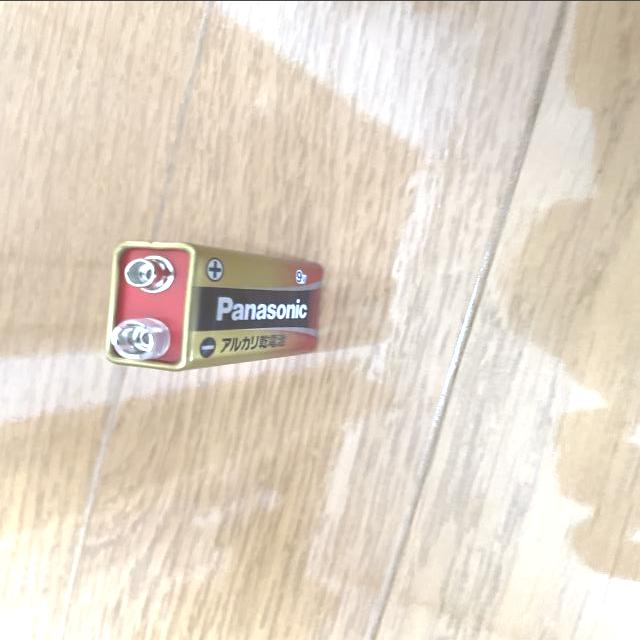9V: (104, 241, 325, 370)
